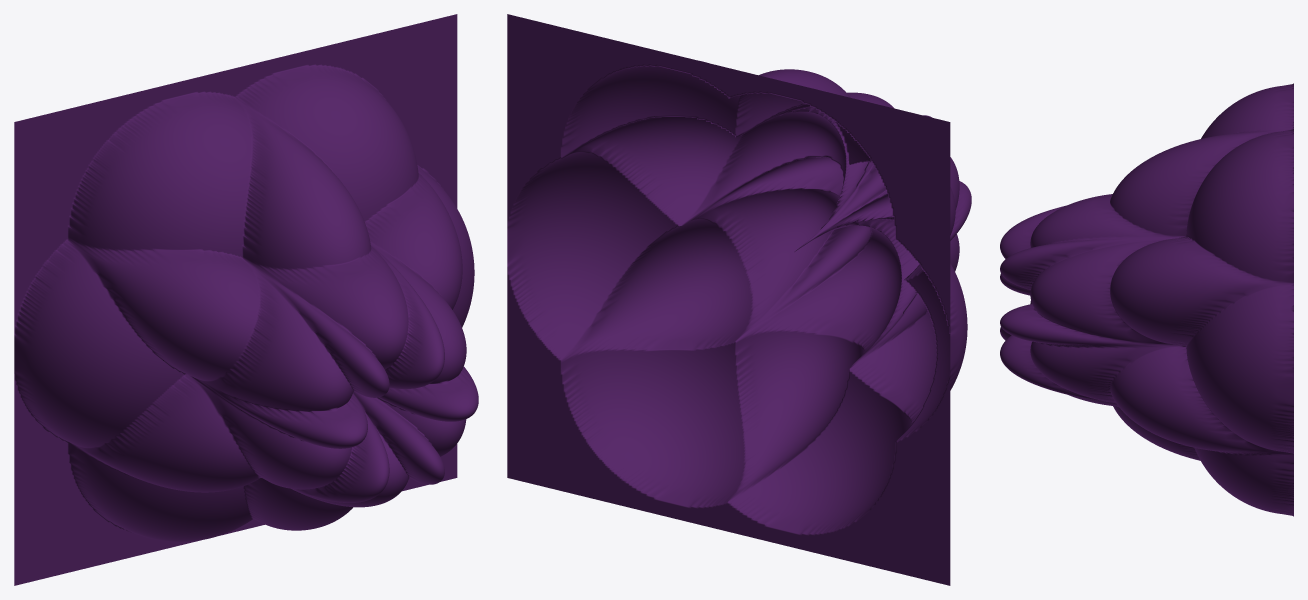
3 renders of one model, left to right at view 1: azimuth 30°, elevation 25°; view 2: azimuth 150°, elevation 25°; view 3: azimuth 270°, elevation 25°, orthographic. The views are drawn at different scales.
Parts seen in each view (by area): view 1: flower_of_life_solid_0; view 2: flower_of_life_solid_0; view 3: flower_of_life_solid_0.
Part boxes in pixels (x1,y1,x2,y2): flower_of_life_solid_0: (14, 14, 478, 585); flower_of_life_solid_0: (507, 14, 971, 585); flower_of_life_solid_0: (1000, 83, 1293, 516).
Size of the model in its own units: 0.8 by 0.8 by 0.5464.
